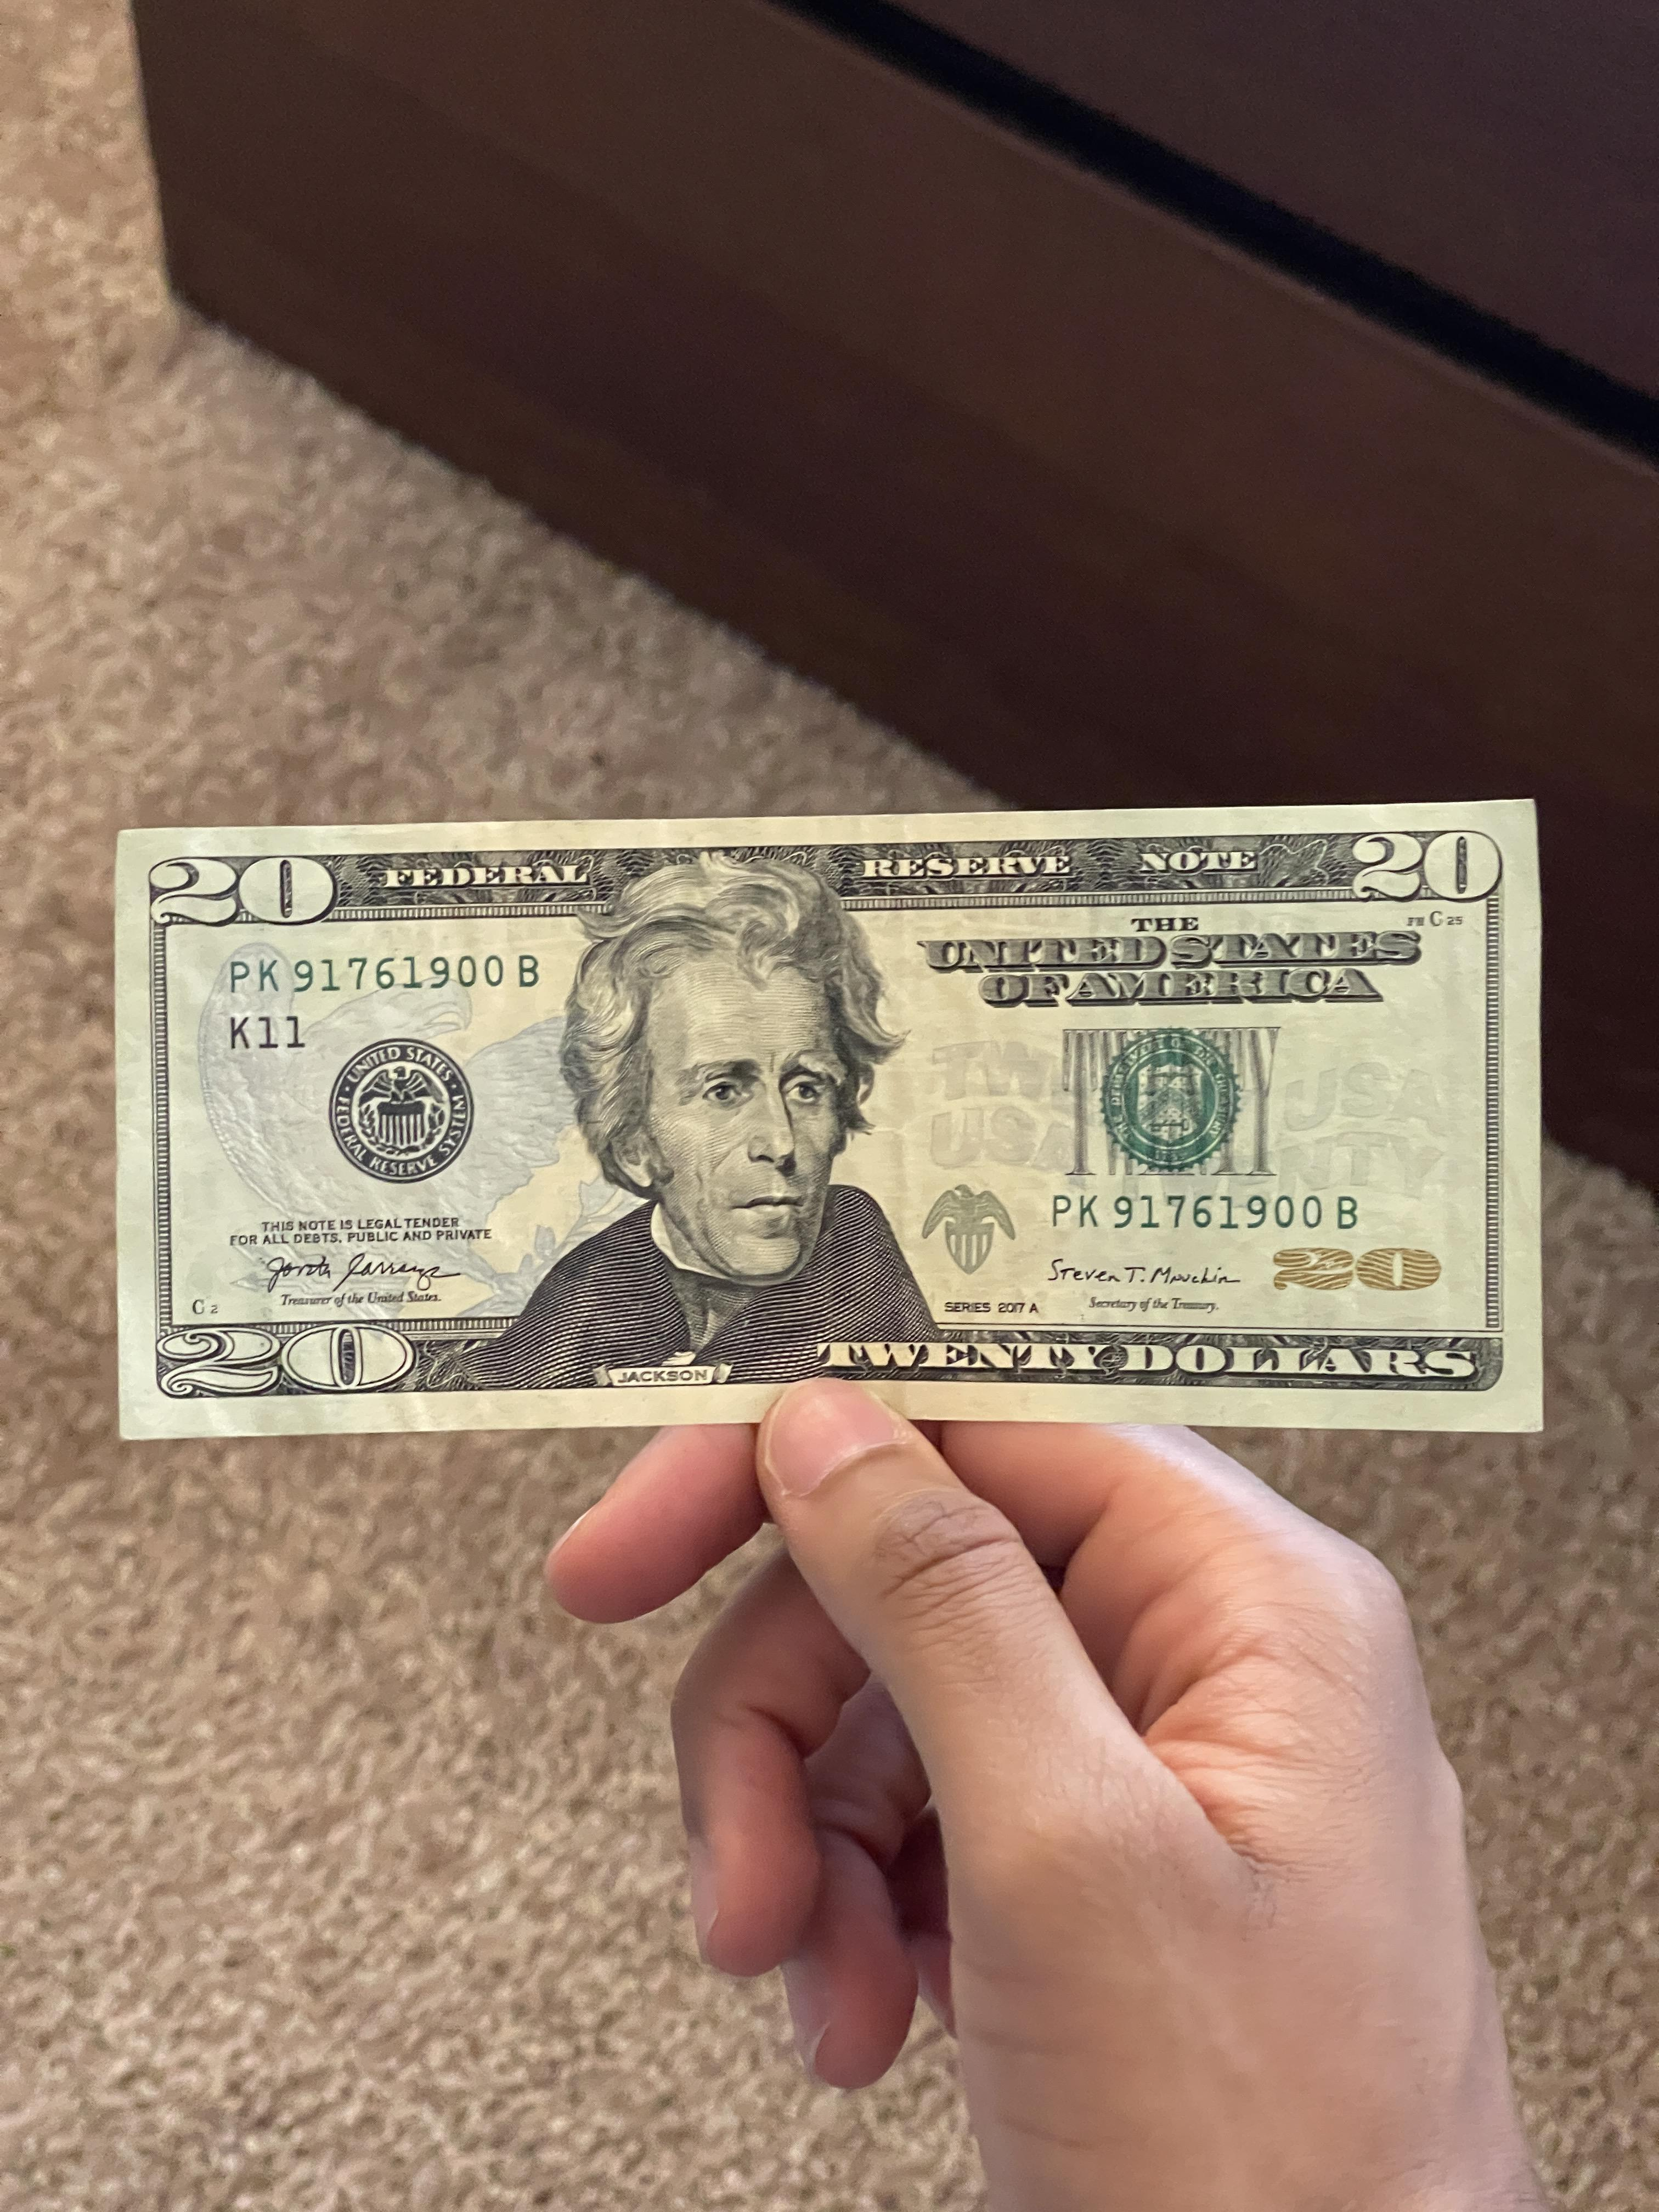TwentyBill: (106, 792, 1551, 1447)
